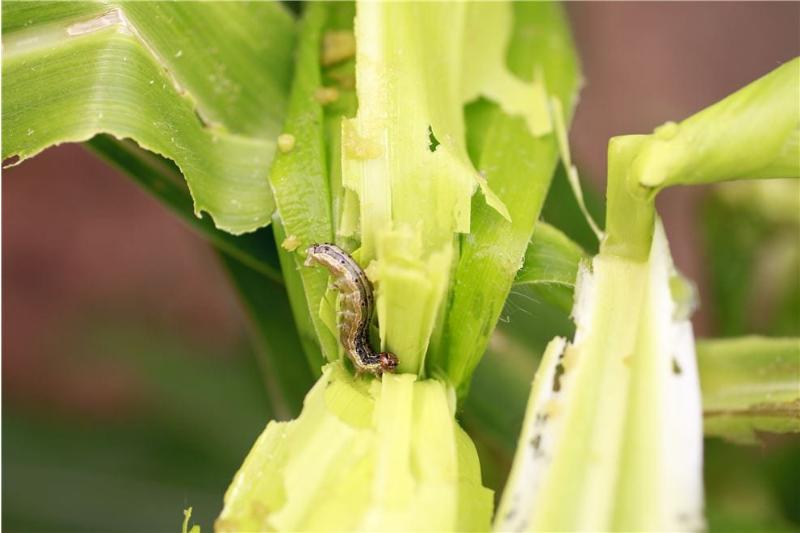fall-armyworm: (303, 244, 400, 382)
